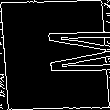M_W: (5, 31, 105, 79)
